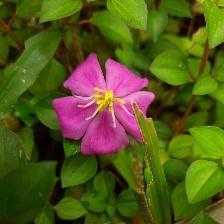malabar melastome: (50, 50, 158, 159)
